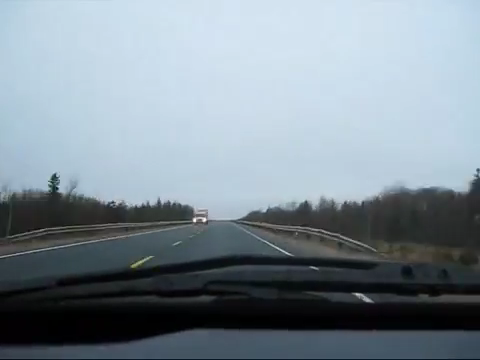bus: (193, 207, 209, 224)
